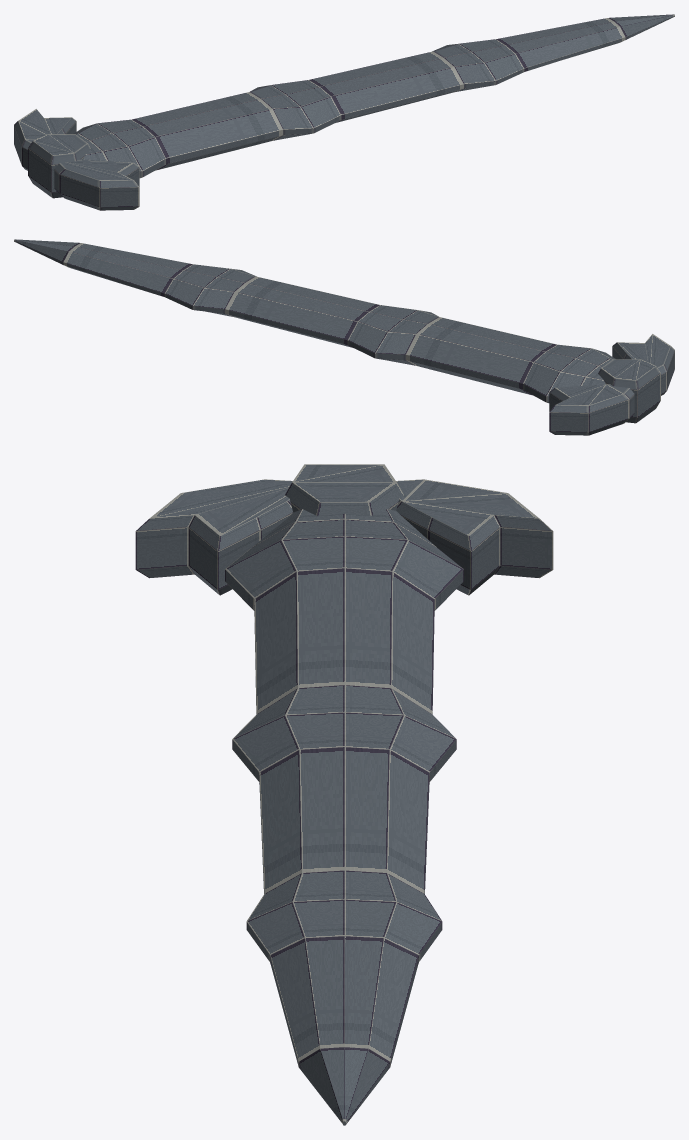
Rendered from bench_chilian_lihuo_sword_3.obj.
3 renders of one model, top to bottom at view 1: azimuth 30°, elevation 25°; view 2: azimuth 150°, elevation 25°; view 3: azimuth 270°, elevation 25°, orthographic. The views are drawn at different scales.
Visible parts, largest first — view 1: geometry; view 2: geometry; view 3: geometry.
Part boxes in pixels (box(x1,y1,x2,y2)): geometry: box(14, 14, 674, 210); geometry: box(14, 239, 674, 435); geometry: box(135, 464, 553, 1125).
Size of the model in its own units: 0.75 by 0.0483 by 0.2137.
